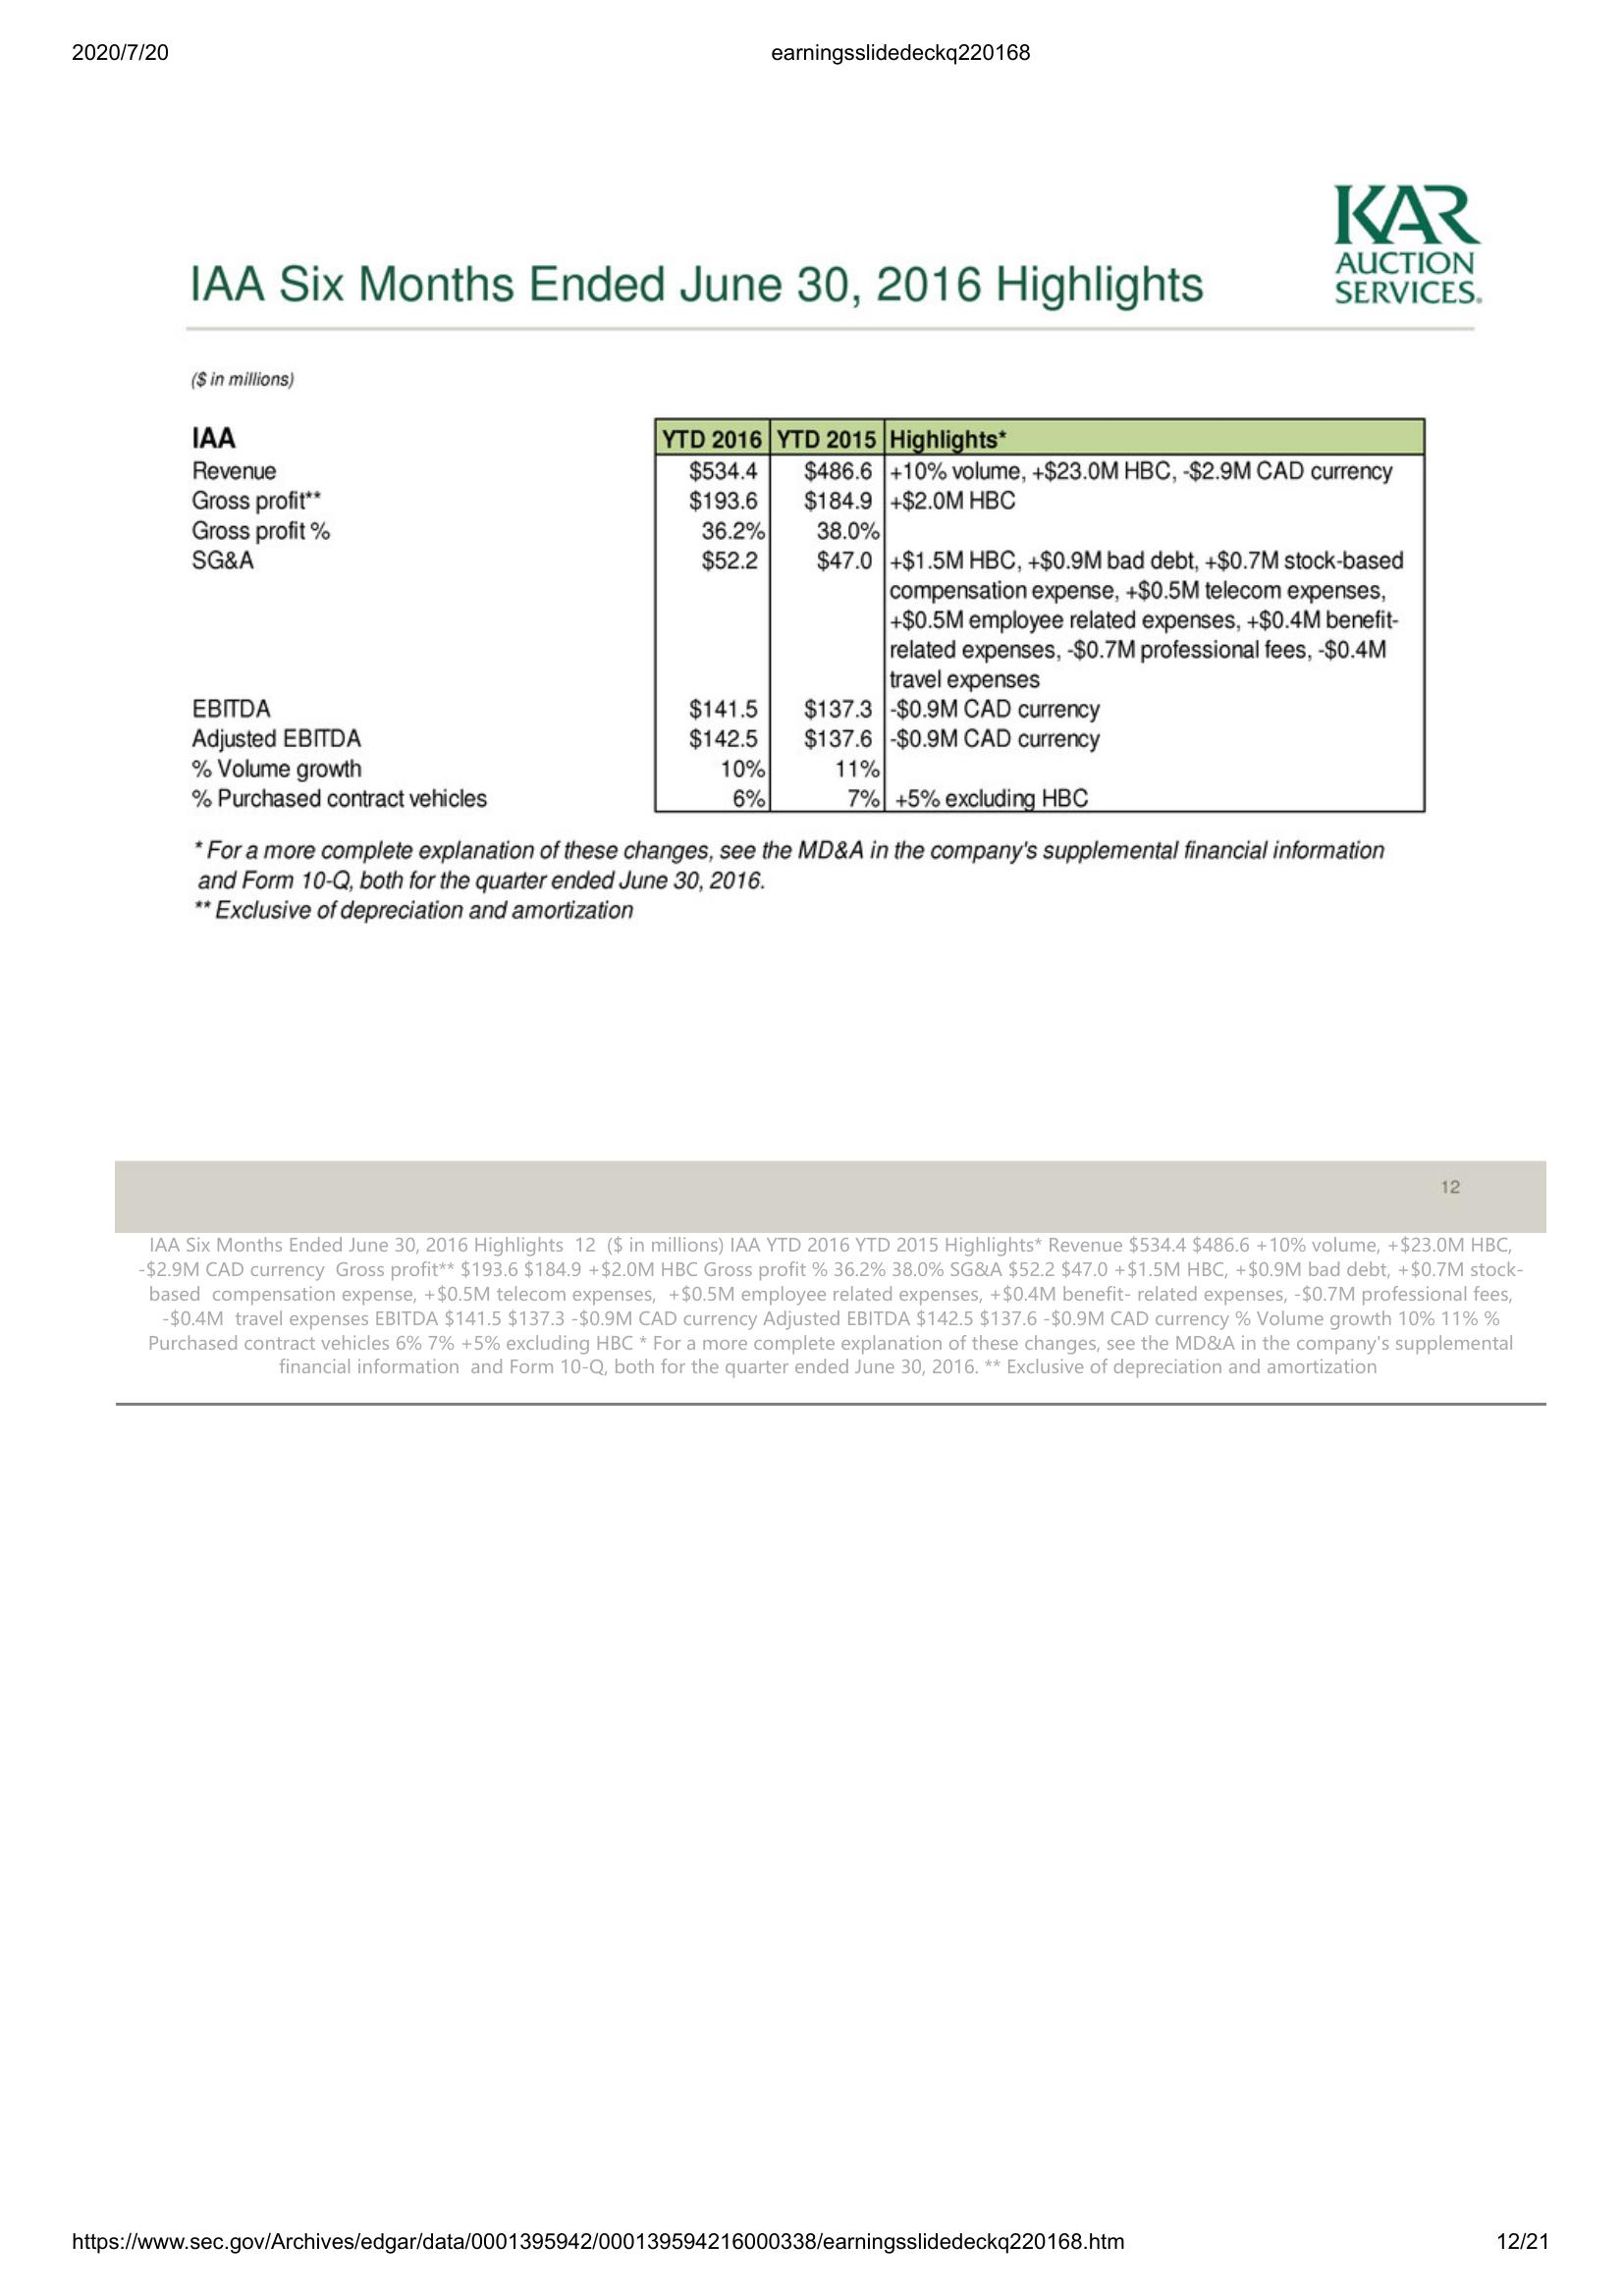table: (646, 407, 1437, 822)
